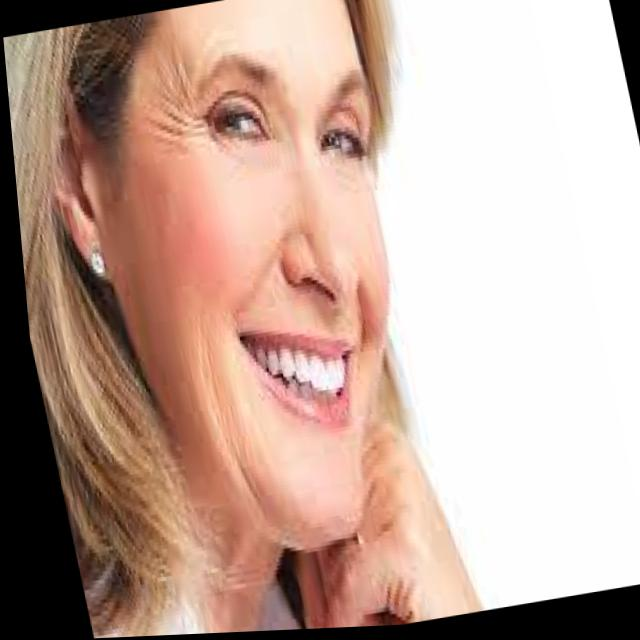Wrinkles: (189, 305, 258, 523), (137, 46, 196, 161)
